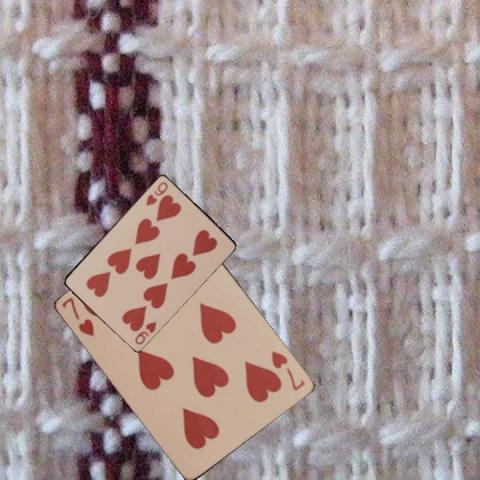7h: (269, 348, 306, 392), (59, 294, 96, 338)
9h: (131, 318, 158, 346), (143, 178, 169, 206)
